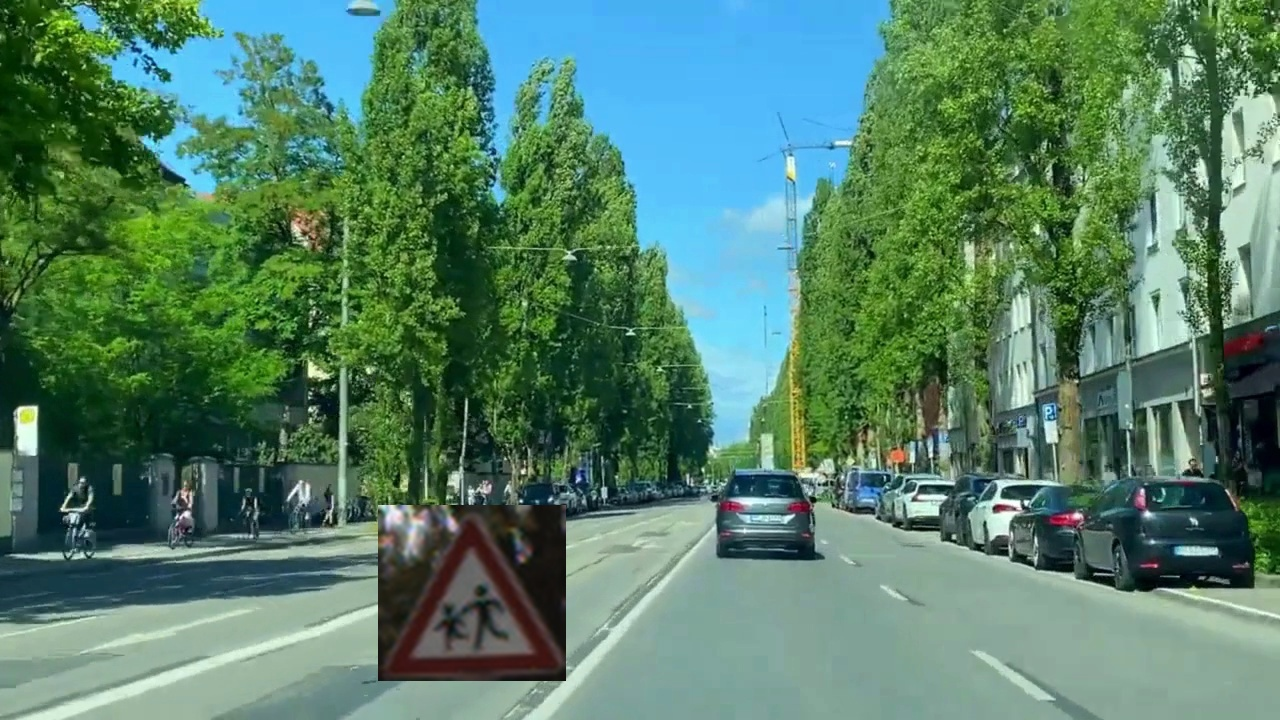Children: (378, 505, 566, 681)
